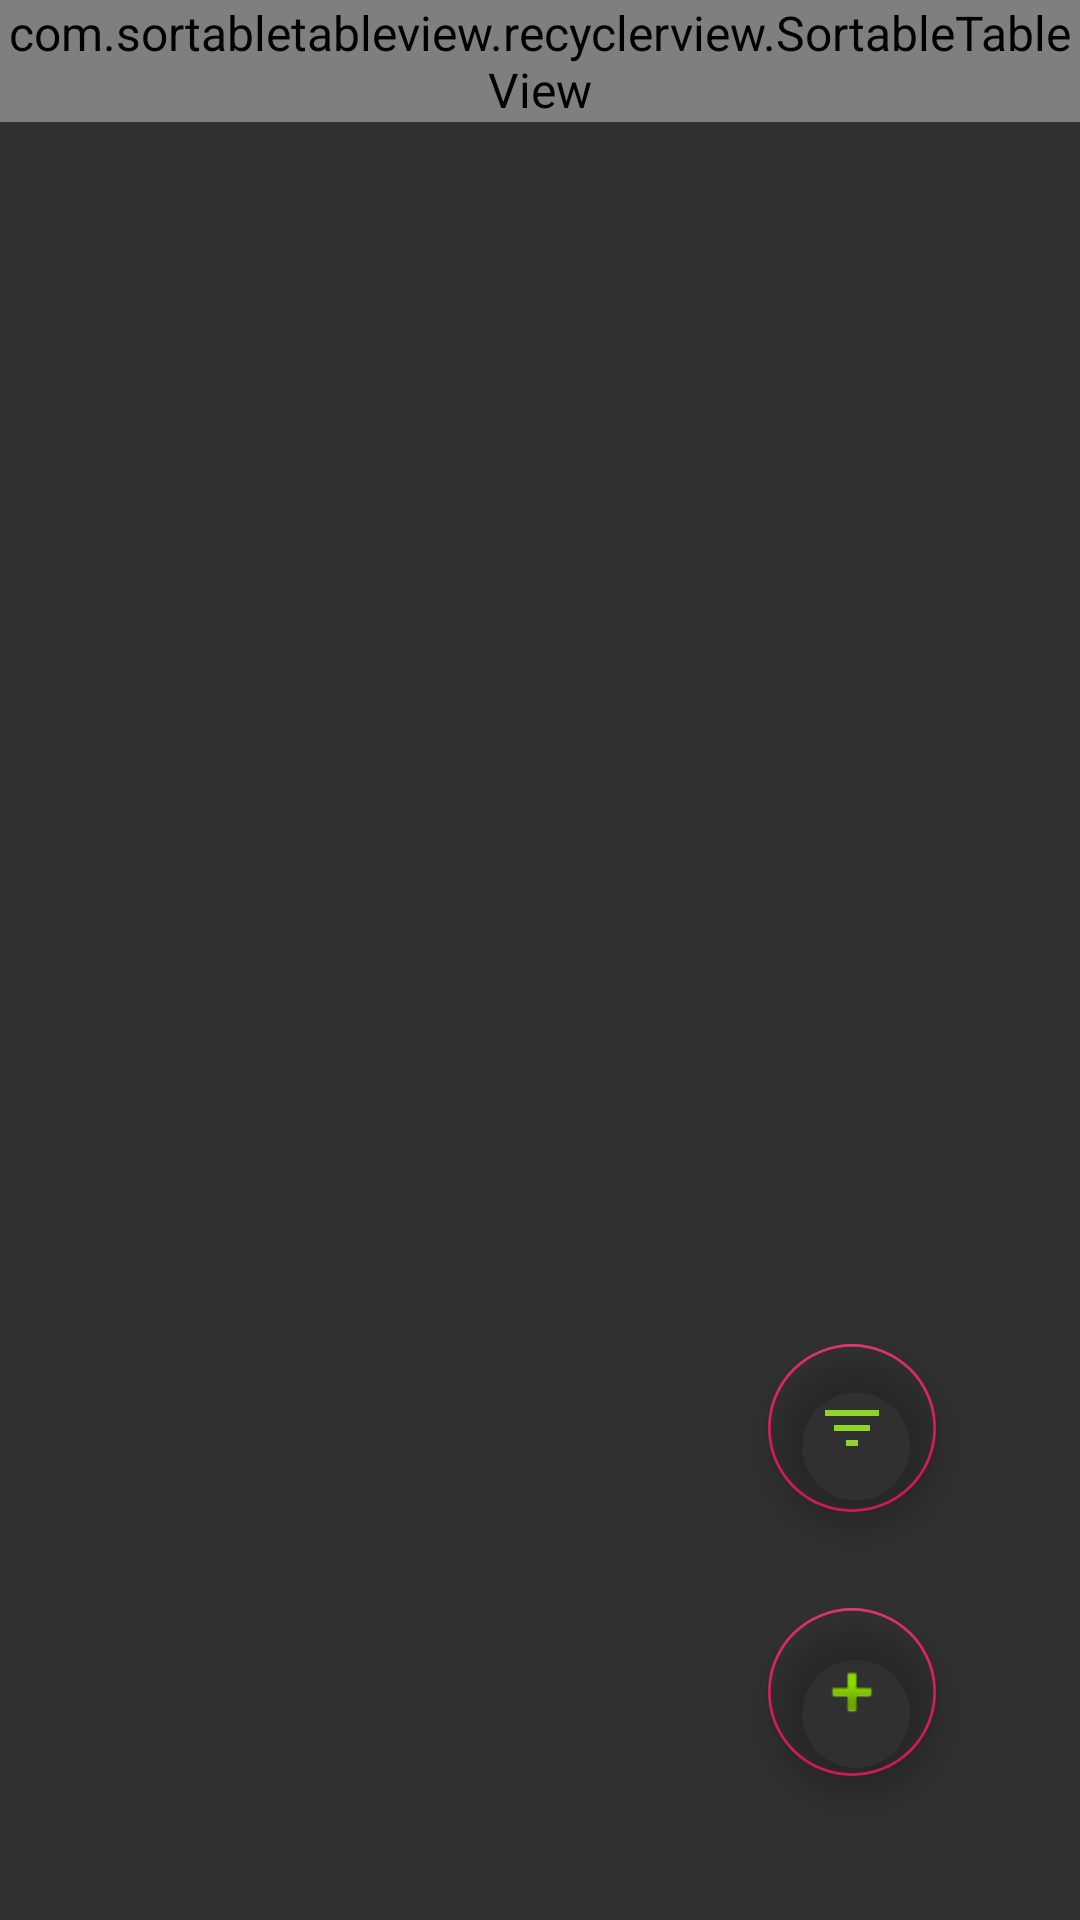

Where to tap for icons on this 1080px×1920px app screen, as (x,y):
add: (852,1692)
filter list: (852,1428)
